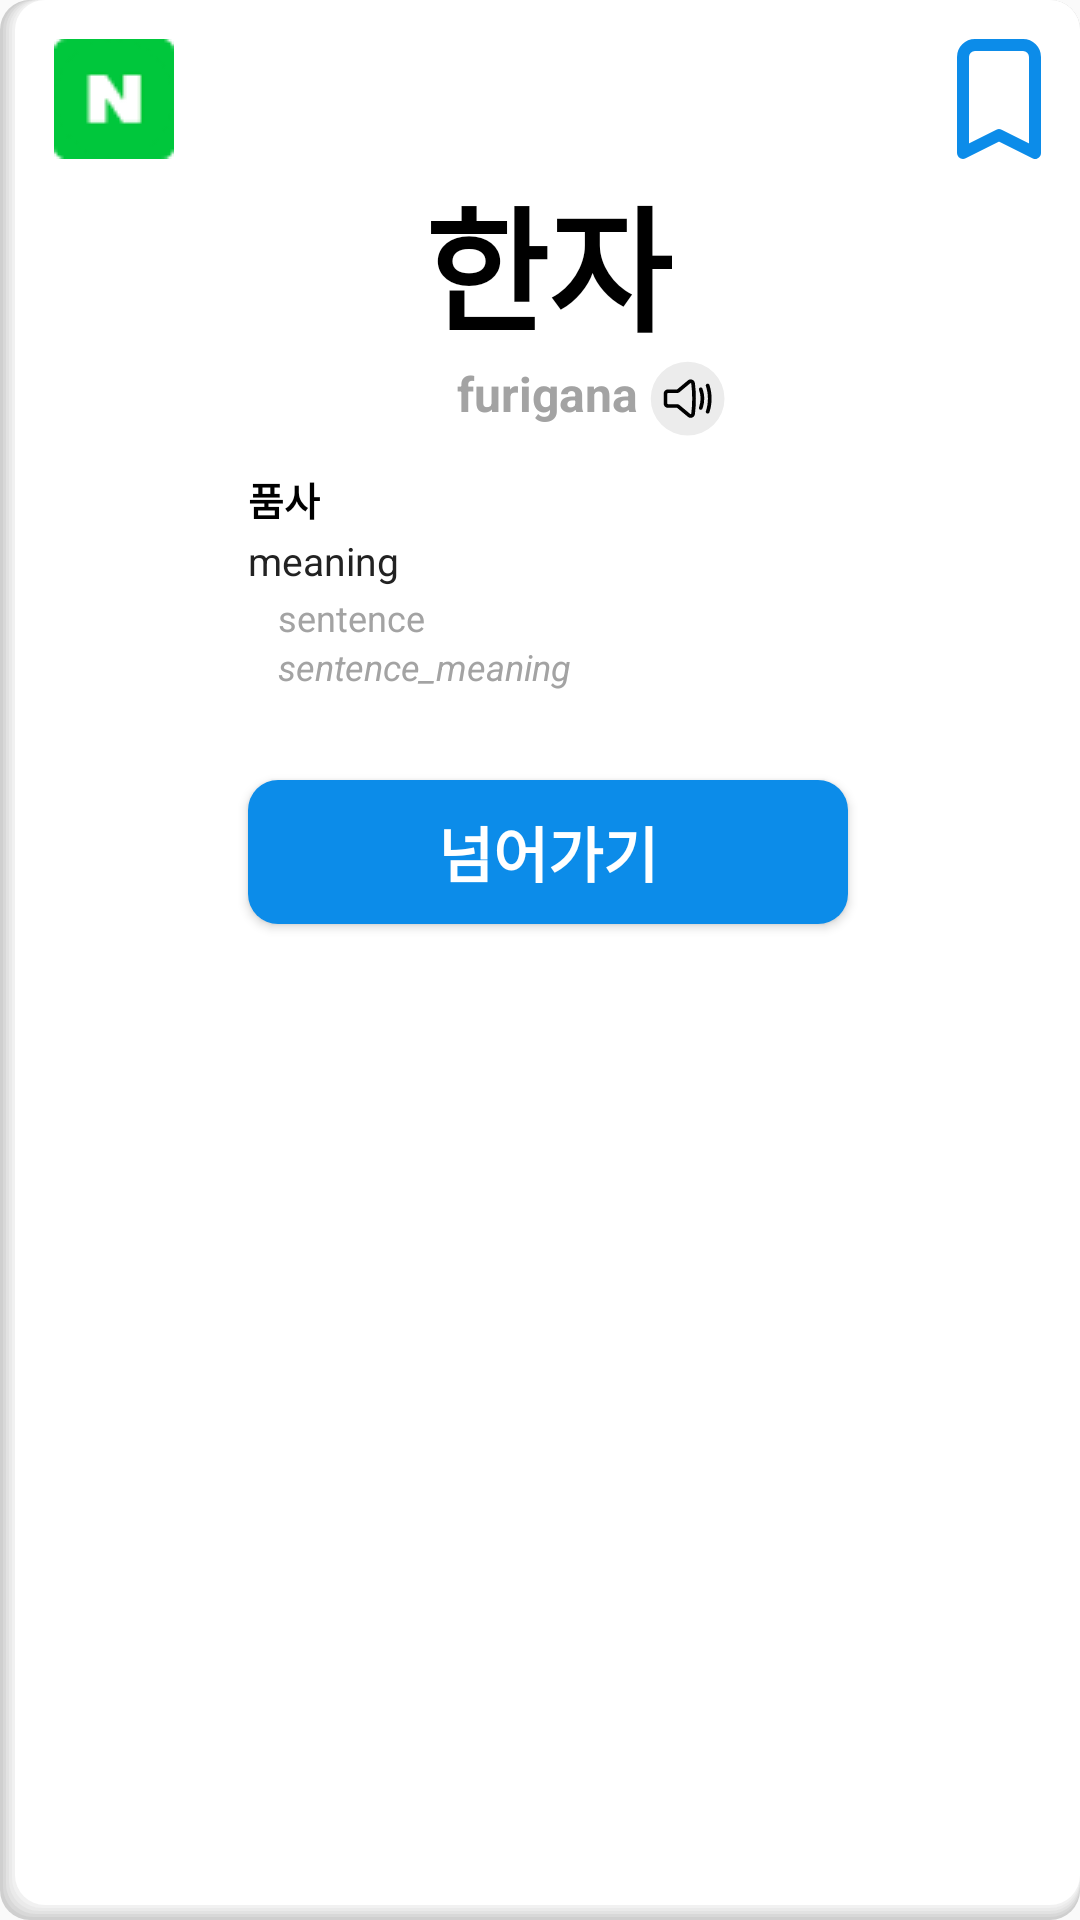

Icons on this 1080px x 1920px Android screen, each with the point to tap as (x=x, y=y):
bookmark: (x=999, y=99)
speacker: (x=688, y=399)
